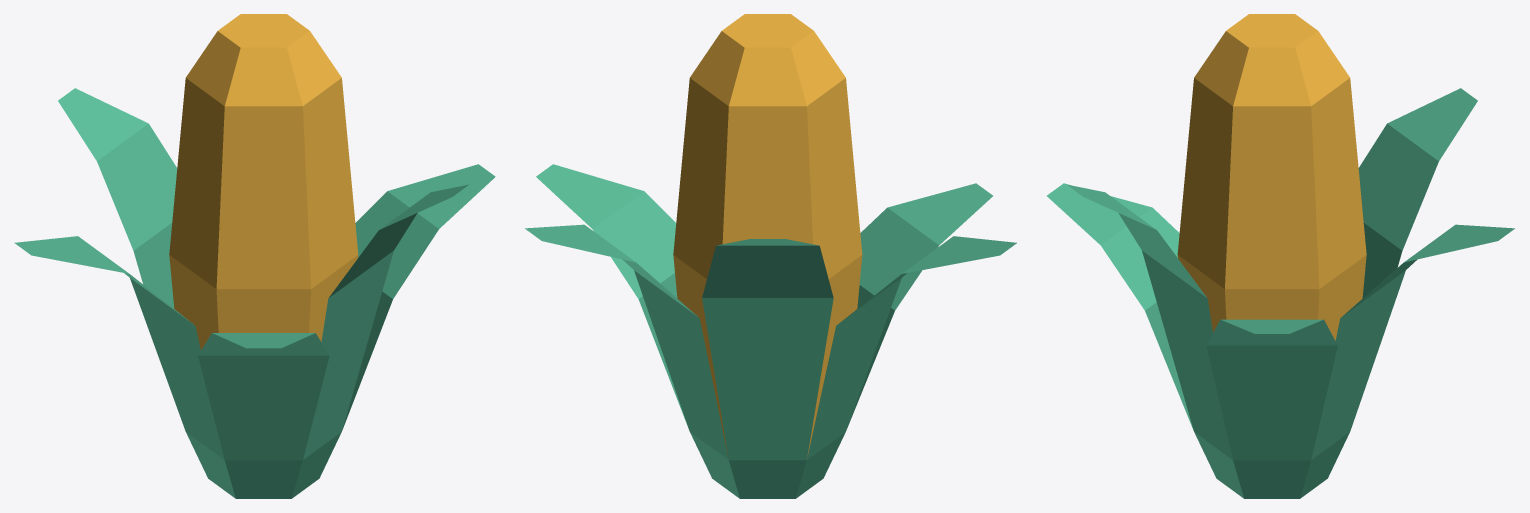
Rendered from corn.fbx.
The picture shows the model from 3 angles, left to right: view 1: azimuth 30°, elevation 25°; view 2: azimuth 150°, elevation 25°; view 3: azimuth 270°, elevation 25°; orthographic projection.
Visible parts, largest first — view 1: corn; view 2: corn; view 3: corn.
Boxes of the visible parts, x1,y1,x2,y2 form: corn: (14,14,495,498); corn: (525,14,1016,498); corn: (1047,14,1514,498).
Bounding box in the file's own units: 3.43 × 3.16 × 3.
